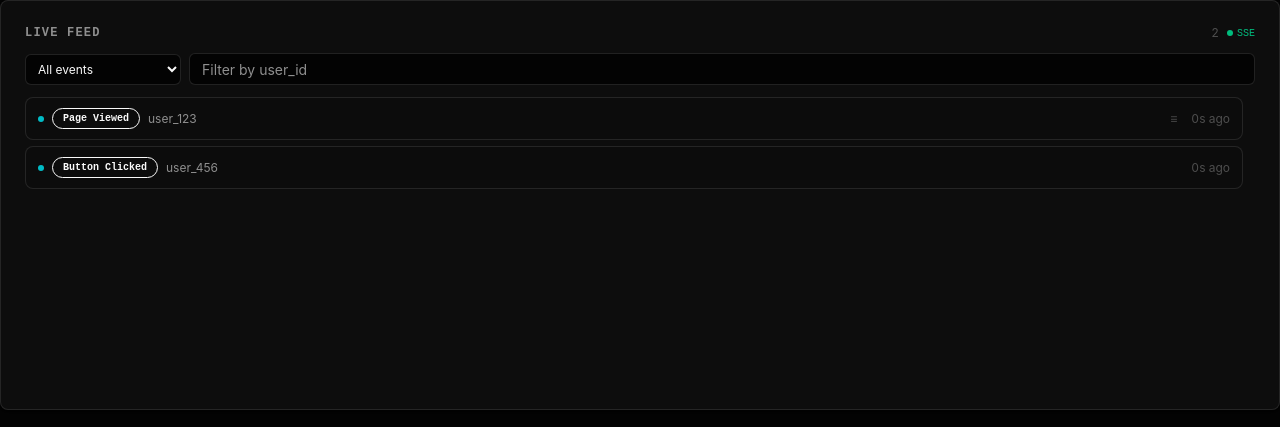
Scenario: EventFeed › expands properties inline when toggle button is clicked
Click the button named "Toggle properties".
click(1174, 118)  # box [1164,108,1183,128]
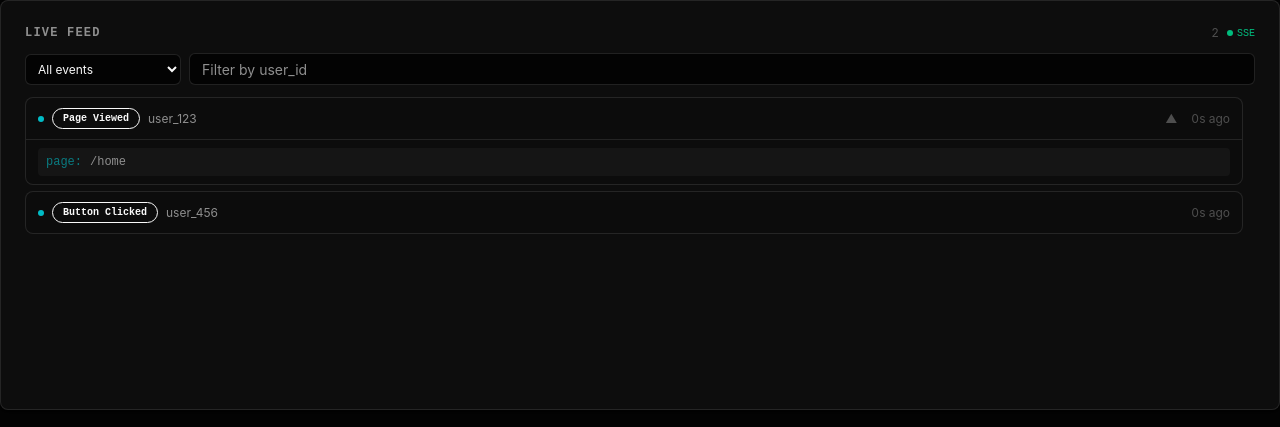
Expected: the text "page:" is shown, [46,154,82,170]
Expected: the text "/home" is shown, [90,154,126,170]
